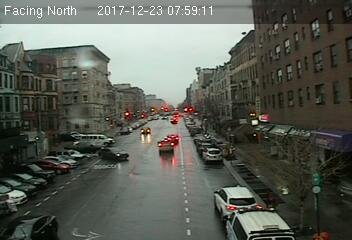car: (212, 183, 260, 219), (202, 146, 223, 162), (156, 139, 176, 153), (139, 127, 151, 135)
police: (226, 206, 299, 240)
